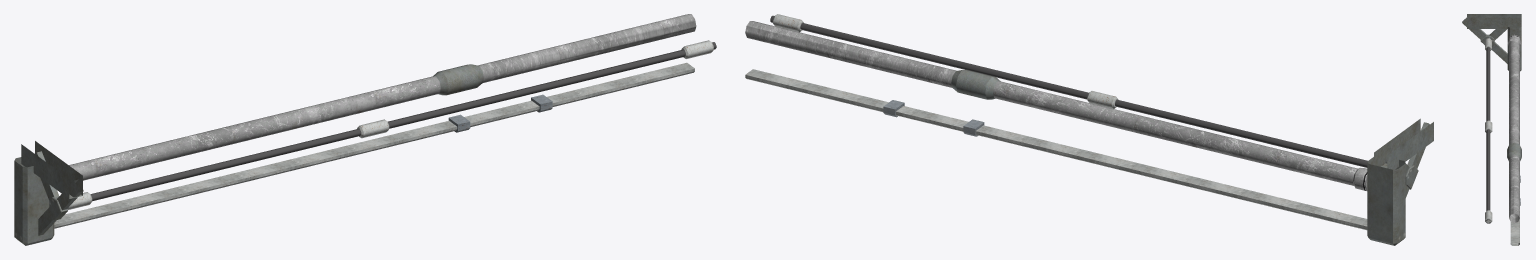
File: Ob_UnderPlatformBars_RC.fbx
3 renders of one model, left to right at view 1: azimuth 30°, elevation 25°; view 2: azimuth 150°, elevation 25°; view 3: azimuth 270°, elevation 25°, orthographic. The views are drawn at different scales.
Parts seen in each view (by area): view 1: Ob_UnderPlatformBars_RC; view 2: Ob_UnderPlatformBars_RC; view 3: Ob_UnderPlatformBars_RC.
Part boxes in pixels (<box>): Ob_UnderPlatformBars_RC: <box>14,14,716,245</box>; Ob_UnderPlatformBars_RC: <box>745,14,1433,245</box>; Ob_UnderPlatformBars_RC: <box>1462,14,1521,245</box>.
Size of the model in its own units: 3318 by 439 by 450.
